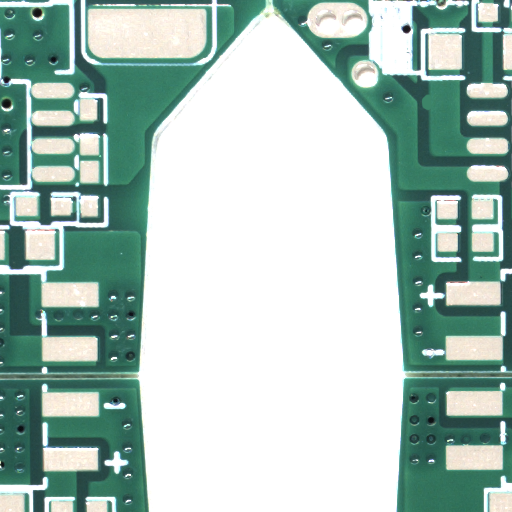Spur: (425, 101, 436, 115)
